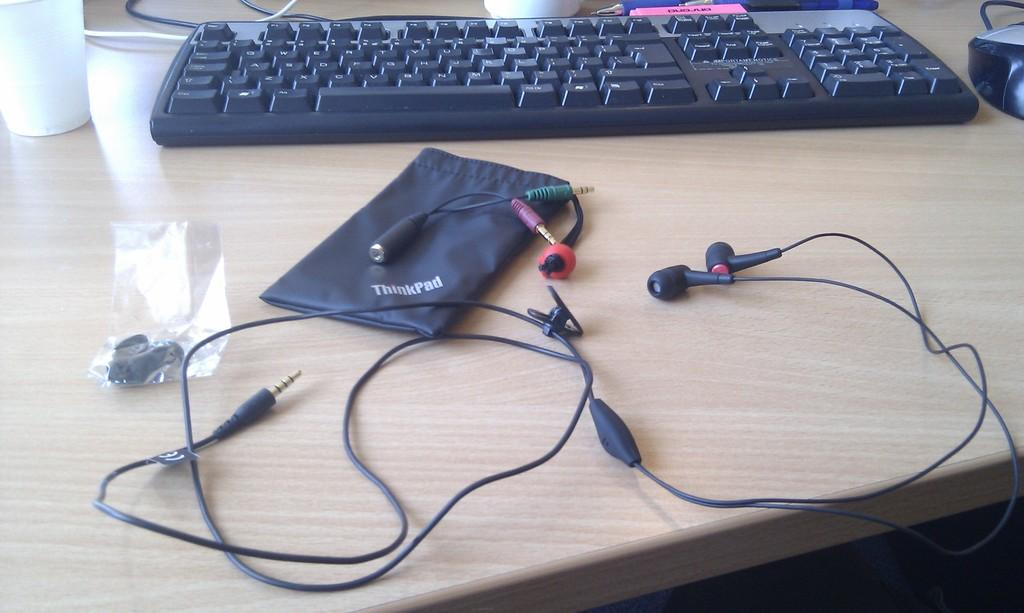Computer-keyboard: (150, 0, 979, 148)
Computer-mouse: (964, 16, 1023, 120)
